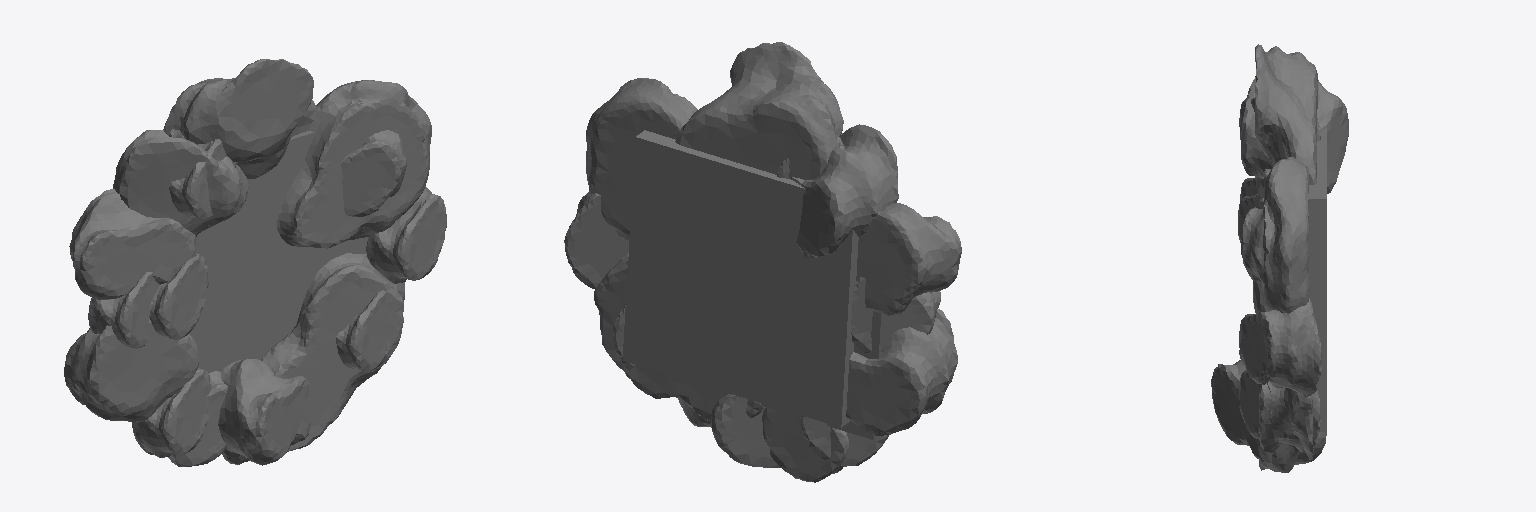
The model's file is rocks5.obj.
3 views of the same model, side by side, from view 1: azimuth 30°, elevation 25°; view 2: azimuth 150°, elevation 25°; view 3: azimuth 270°, elevation 25° (orthographic).
Visible parts, largest first — view 1: Cube, ShortFlatRock_A, ShortFlatRock_B, ShortFlatRock_C, ShortFlatRock_D, ShortFlatRock_E, ShortFlatRock_D.001, ShortFlatRock_E.001, ShortFlatRock_F.004, ShortFlatRock_F.002, ShortFlatRock_F.003, ShortFlatRock_F.007 (+4 smaller); view 2: Cube, ShortFlatRock_C, ShortFlatRock_D, ShortFlatRock_D.001, ShortFlatRock_E, ShortFlatRock_A, ShortFlatRock_B, ShortFlatRock_F.004, ShortFlatRock_F, ShortFlatRock_E.001, ShortFlatRock_F.005, ShortFlatRock_F.003 (+1 smaller); view 3: ShortFlatRock_C, ShortFlatRock_A, ShortFlatRock_F.004, ShortFlatRock_B, Cube, ShortFlatRock_D.001, ShortFlatRock_E.001, ShortFlatRock_F.006, ShortFlatRock_F.002.
Boxes of the visible parts, x1=… form: Cube: x1=189, y1=131, x2=367, y2=373; ShortFlatRock_A: x1=277, y1=80, x2=431, y2=248; ShortFlatRock_B: x1=261, y1=253, x2=404, y2=451; ShortFlatRock_C: x1=163, y1=59, x2=315, y2=178; ShortFlatRock_D: x1=64, y1=319, x2=198, y2=421; ShortFlatRock_E: x1=69, y1=189, x2=196, y2=299; ShortFlatRock_D.001: x1=113, y1=130, x2=248, y2=236; ShortFlatRock_E.001: x1=218, y1=359, x2=310, y2=465; ShortFlatRock_F.004: x1=366, y1=186, x2=446, y2=283; ShortFlatRock_F.002: x1=341, y1=130, x2=406, y2=216; ShortFlatRock_F.003: x1=132, y1=368, x2=211, y2=457; ShortFlatRock_F.007: x1=149, y1=253, x2=208, y2=339; Cube: x1=623, y1=130, x2=858, y2=427; ShortFlatRock_C: x1=675, y1=42, x2=843, y2=179; ShortFlatRock_D: x1=846, y1=309, x2=957, y2=435; ShortFlatRock_D.001: x1=791, y1=124, x2=898, y2=257; ShortFlatRock_E: x1=856, y1=203, x2=961, y2=315; ShortFlatRock_A: x1=586, y1=78, x2=697, y2=241; ShortFlatRock_B: x1=594, y1=253, x2=763, y2=426; ShortFlatRock_F.004: x1=564, y1=191, x2=628, y2=288; ShortFlatRock_F: x1=762, y1=407, x2=848, y2=482; ShortFlatRock_E.001: x1=711, y1=394, x2=780, y2=467; ShortFlatRock_F.005: x1=851, y1=277, x2=940, y2=352; ShortFlatRock_F.003: x1=800, y1=415, x2=888, y2=466; ShortFlatRock_C: x1=1255, y1=44, x2=1317, y2=184; ShortFlatRock_A: x1=1263, y1=157, x2=1309, y2=313; ShortFlatRock_F.004: x1=1240, y1=298, x2=1321, y2=397; ShortFlatRock_B: x1=1259, y1=383, x2=1313, y2=472; Cube: x1=1309, y1=128, x2=1326, y2=431; ShortFlatRock_D.001: x1=1241, y1=76, x2=1348, y2=193; ShortFlatRock_E.001: x1=1211, y1=359, x2=1326, y2=464; ShortFlatRock_F.006: x1=1239, y1=370, x2=1320, y2=452; ShortFlatRock_F.002: x1=1241, y1=207, x2=1263, y2=284.
Size of the model in its own units: 0.1253 by 0.1314 by 0.0399.